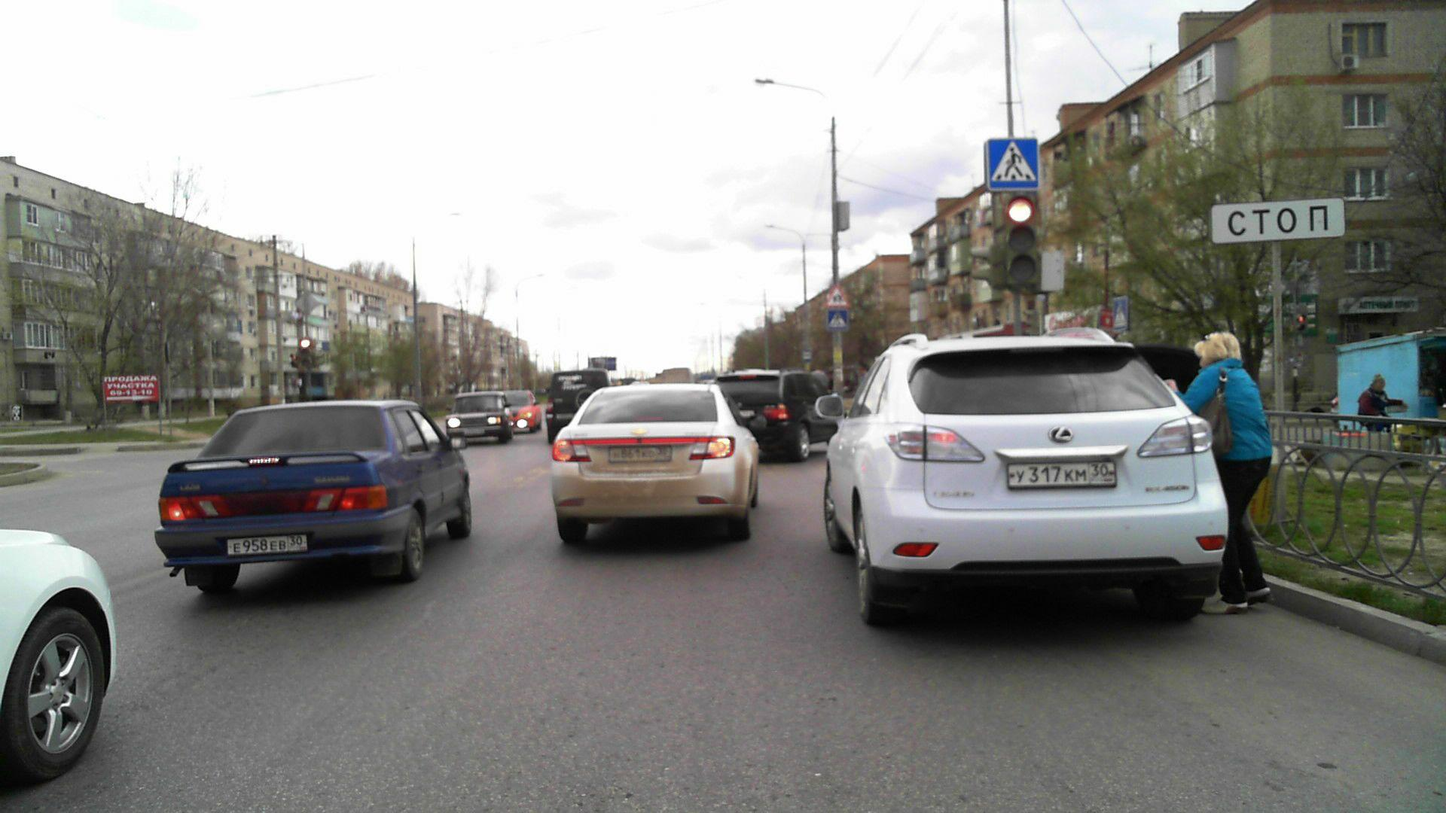road_sign: (1211, 195, 1346, 244), (986, 138, 1038, 186), (1111, 293, 1129, 332), (824, 283, 849, 305), (827, 310, 849, 332)
traffic light: (1005, 191, 1044, 290), (299, 338, 312, 368)
